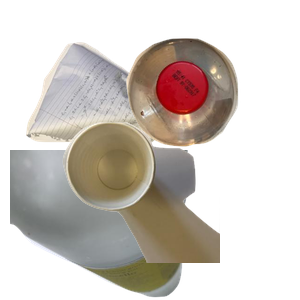glass: (10, 150, 190, 300)
paper: (23, 40, 223, 180)
plastic: (124, 36, 300, 175)
trash: (60, 120, 300, 300)
